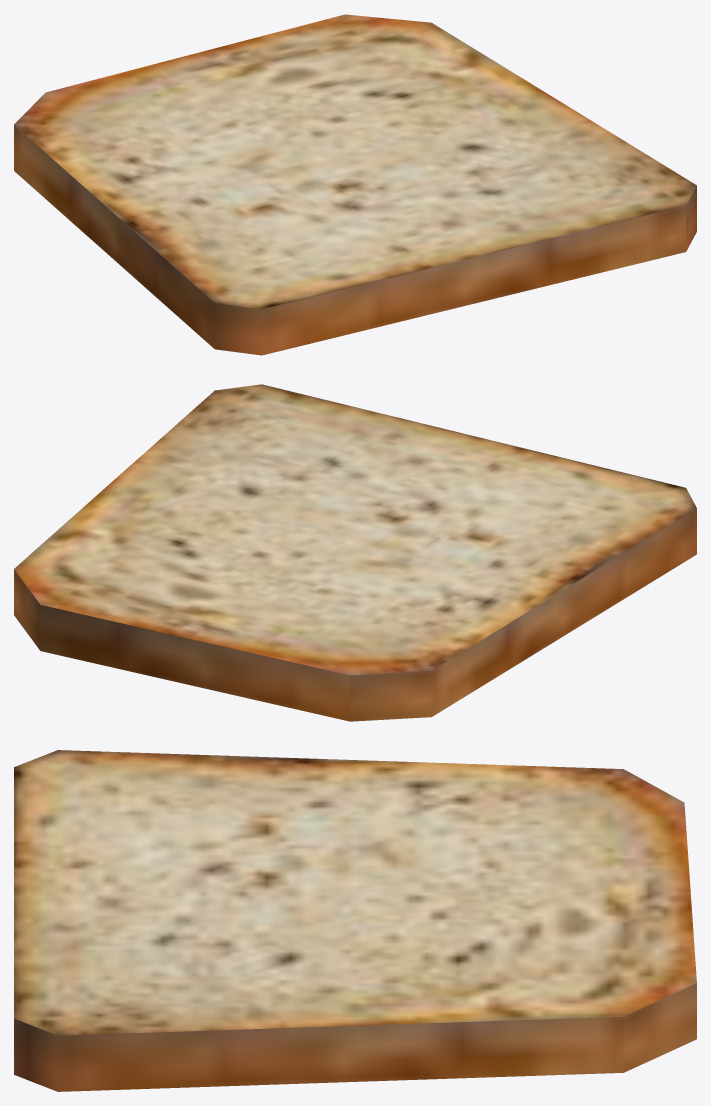
The model's file is bread_03.glb.
3 renders of one model, top to bottom at view 1: azimuth 30°, elevation 25°; view 2: azimuth 150°, elevation 25°; view 3: azimuth 270°, elevation 25°, orthographic. The views are drawn at different scales.
Parts seen in each view (by area): view 1: bread_03; view 2: bread_03; view 3: bread_03.
Part boxes in pixels (x1=…): bread_03: x1=14, y1=14, x2=696, y2=355; bread_03: x1=14, y1=384, x2=696, y2=721; bread_03: x1=14, y1=750, x2=696, y2=1091.
Size of the model in its own units: 0.1693 by 0.0155 by 0.171.
1 material, 1 textured.
